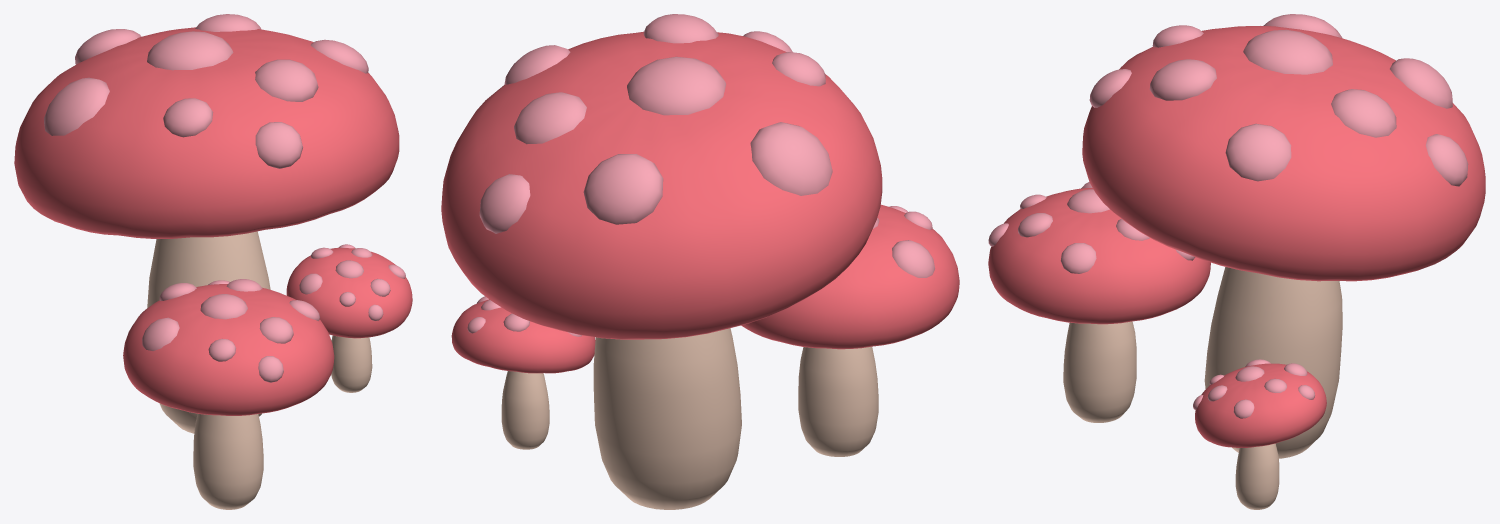
Rendered from MUSHROOM.fbx.
3 renders of one model, left to right at view 1: azimuth 30°, elevation 25°; view 2: azimuth 150°, elevation 25°; view 3: azimuth 270°, elevation 25°, orthographic. The views are drawn at different scales.
Visible parts, largest first — view 1: govde_kucuk; view 2: govde_kucuk; view 3: govde_kucuk.
Part boxes in pixels (box(x1,y1,x2,y2)): govde_kucuk: box(14, 14, 412, 509); govde_kucuk: box(441, 14, 959, 509); govde_kucuk: box(988, 14, 1485, 509).
Bounding box in the file's own units: 577 × 605 × 673.
